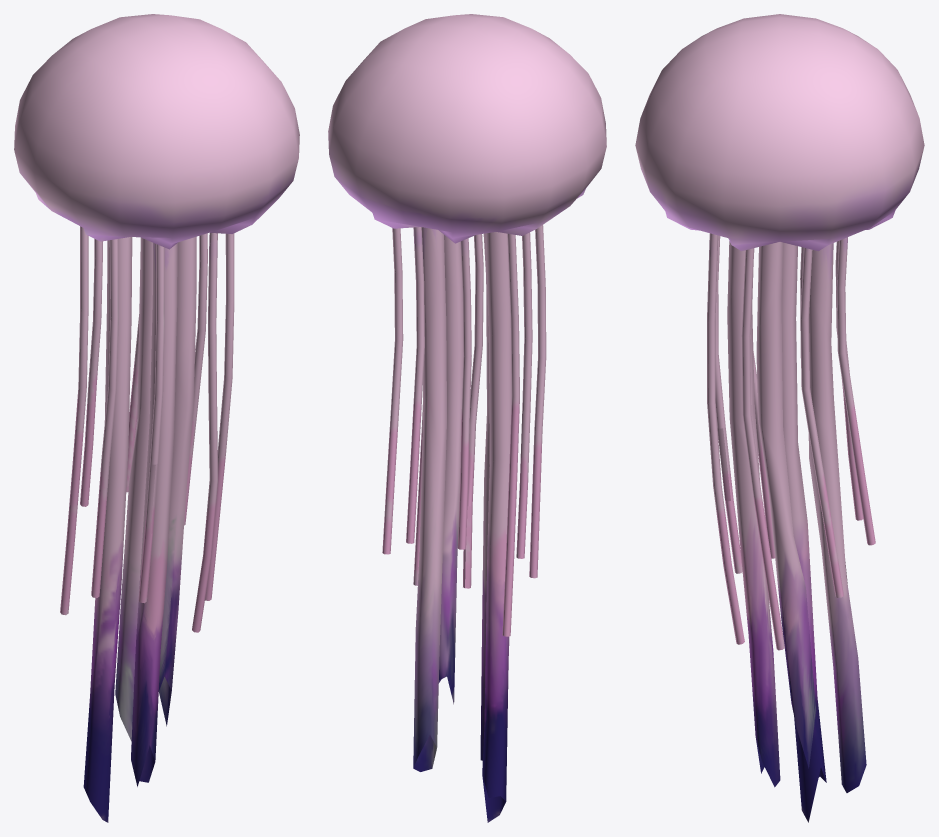
Rendered from jellyfish4.glb.
3 views of the same model, side by side, from view 1: azimuth 30°, elevation 25°; view 2: azimuth 150°, elevation 25°; view 3: azimuth 270°, elevation 25° (orthographic). The views are drawn at different scales.
Visible parts, largest first — view 1: pCube2, TubeMesh12, TubeMesh15, TubeMesh10, TubeMesh11, TubeMesh7, TubeMesh3, TubeMesh4, TubeMesh5, TubeMesh6, TubeMesh2, TubeMesh8 (+1 smaller); view 2: pCube2, TubeMesh11, TubeMesh12, TubeMesh10, TubeMesh3, TubeMesh4, TubeMesh8, TubeMesh5, TubeMesh1, TubeMesh7, TubeMesh2, TubeMesh15 (+1 smaller); view 3: pCube2, TubeMesh10, TubeMesh11, TubeMesh15, TubeMesh12, TubeMesh7, TubeMesh6, TubeMesh8, TubeMesh1, TubeMesh5, TubeMesh4, TubeMesh2.
Part boxes in pixels (bbox=[...]): pCube2: bbox=[14, 14, 299, 249]; TubeMesh12: bbox=[83, 237, 132, 822]; TubeMesh15: bbox=[131, 243, 177, 786]; TubeMesh10: bbox=[158, 236, 196, 726]; TubeMesh11: bbox=[115, 238, 152, 741]; TubeMesh7: bbox=[192, 233, 217, 632]; TubeMesh3: bbox=[60, 226, 88, 615]; TubeMesh4: bbox=[91, 239, 118, 597]; TubeMesh5: bbox=[138, 244, 164, 603]; TubeMesh6: bbox=[205, 233, 234, 600]; TubeMesh2: bbox=[80, 239, 102, 506]; TubeMesh8: bbox=[184, 233, 207, 525]; pCube2: bbox=[328, 14, 606, 243]; TubeMesh11: bbox=[413, 227, 446, 771]; TubeMesh12: bbox=[482, 232, 511, 822]; TubeMesh10: bbox=[438, 235, 463, 704]; TubeMesh3: bbox=[502, 233, 519, 636]; TubeMesh4: bbox=[529, 225, 546, 578]; TubeMesh8: bbox=[382, 228, 403, 554]; TubeMesh5: bbox=[516, 232, 532, 558]; TubeMesh1: bbox=[406, 227, 424, 543]; TubeMesh7: bbox=[463, 234, 483, 588]; TubeMesh2: bbox=[457, 238, 471, 549]; TubeMesh15: bbox=[480, 233, 489, 760]; pCube2: bbox=[635, 14, 924, 251]; TubeMesh10: bbox=[756, 242, 816, 768]; TubeMesh11: bbox=[808, 243, 866, 792]; TubeMesh15: bbox=[727, 241, 780, 787]; TubeMesh12: bbox=[781, 242, 826, 822]; TubeMesh7: bbox=[707, 233, 744, 644]; TubeMesh6: bbox=[741, 248, 784, 650]; TubeMesh8: bbox=[800, 247, 843, 597]; TubeMesh1: bbox=[836, 237, 875, 545]; TubeMesh5: bbox=[715, 235, 742, 573]; TubeMesh4: bbox=[753, 351, 774, 558]; TubeMesh2: bbox=[835, 241, 863, 520].
Size of the model in its own units: 0.0599 by 0.185 by 0.0599.
1 material, 1 textured.
